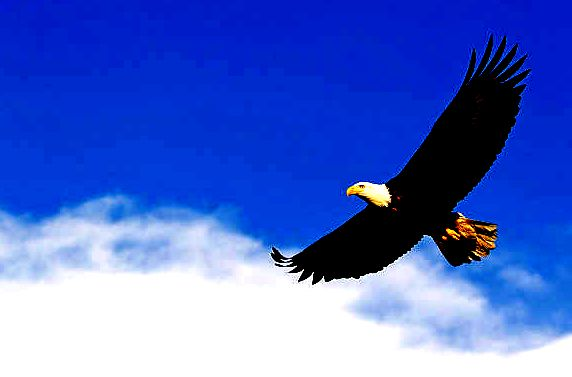Bird: (267, 31, 532, 287)
